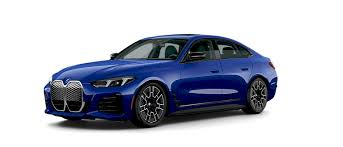car: (42, 31, 277, 129)
